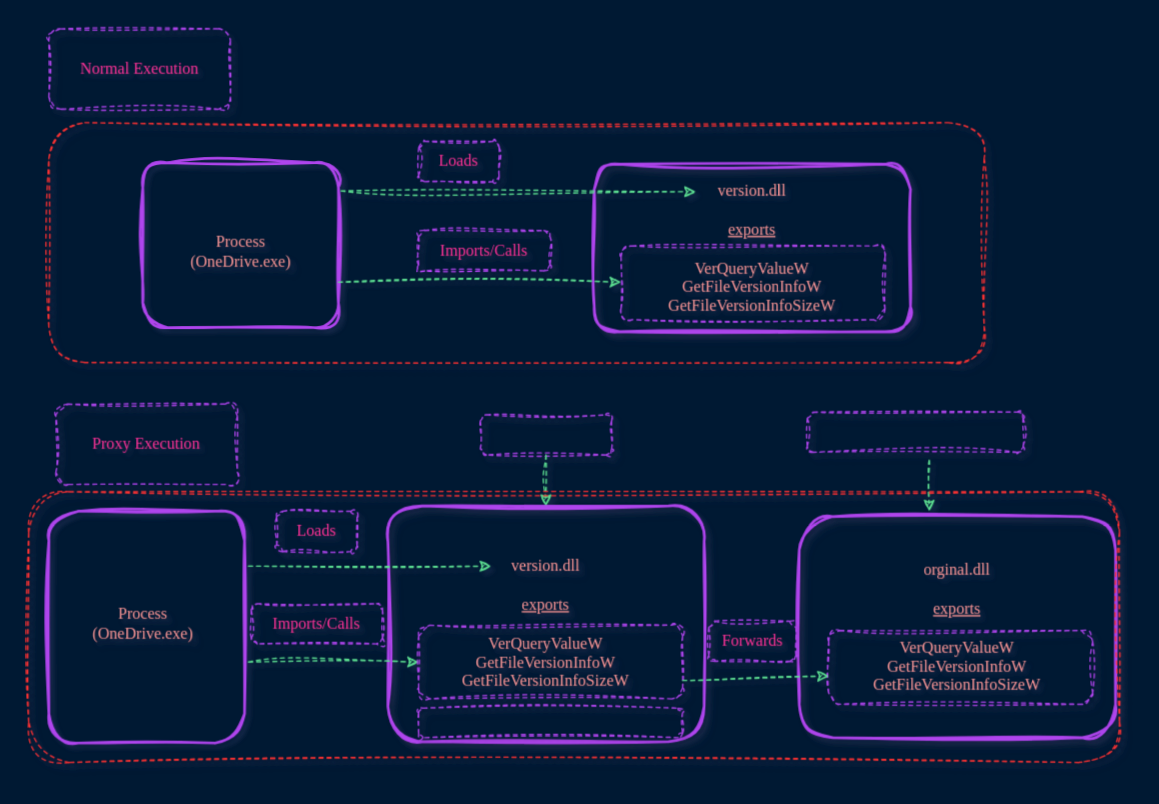
This 1159x804 diagram has some shape labels left out. Here are the shapes that lost their labels. From the top down, the centre of each, then its label:
pixel 547 436: Proxy DLL
pixel 916 433: original version.dll
pixel 551 724: Malicious Function
